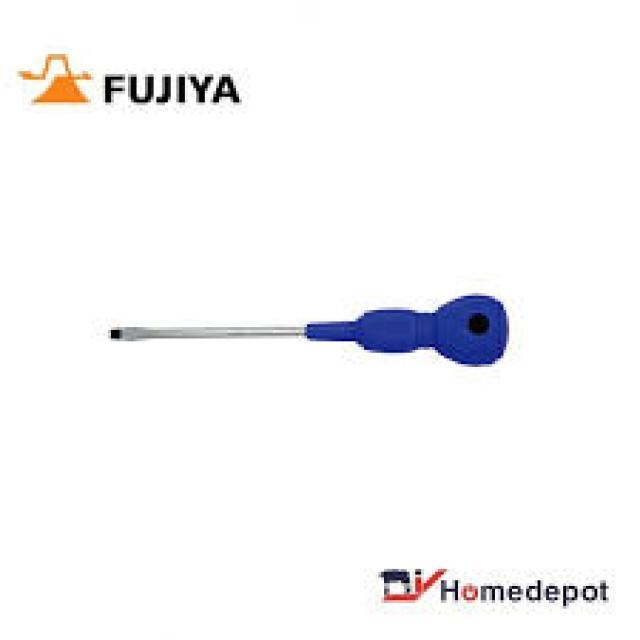screwdriver: (103, 290, 510, 370)
